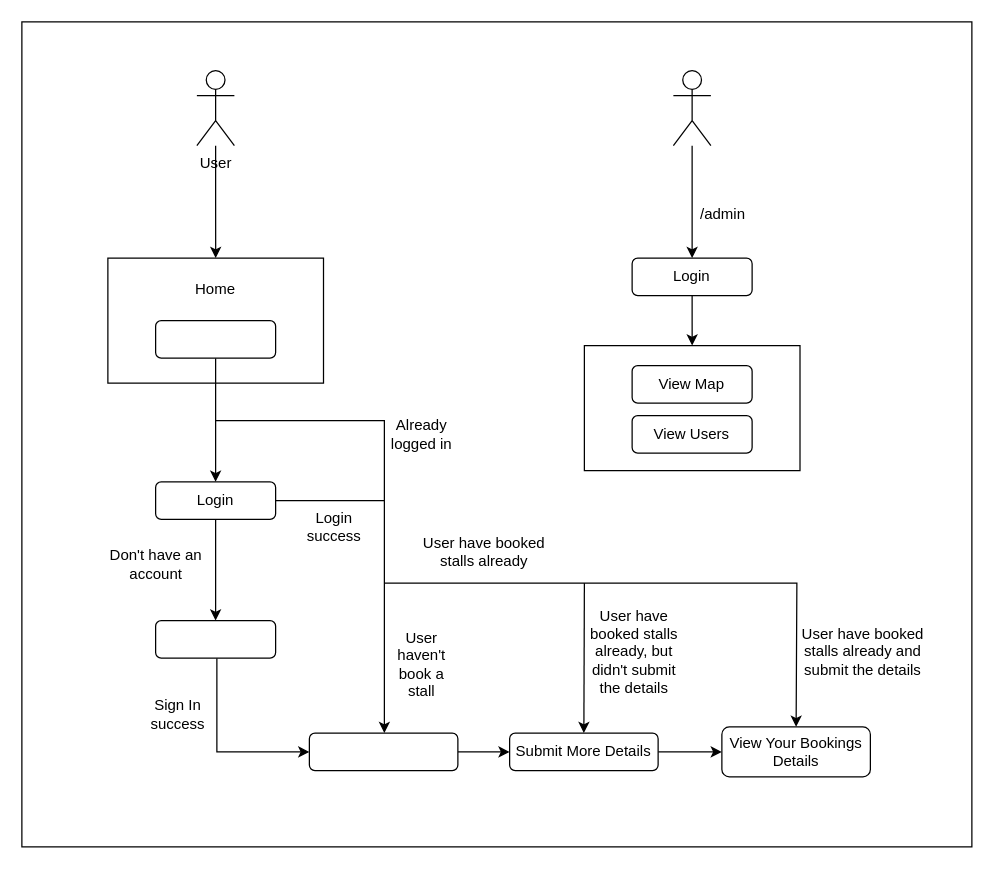
Image size: 994x869. Some labels were removed from this diagram. The shapes that lost their labels are listed below. From the top down, each one's centre as x and y in pixels, then its label:
the point at 691,107: Admin
the point at 215,338: Bookings
the point at 215,638: Sign In
the point at 383,751: View Map and Book
